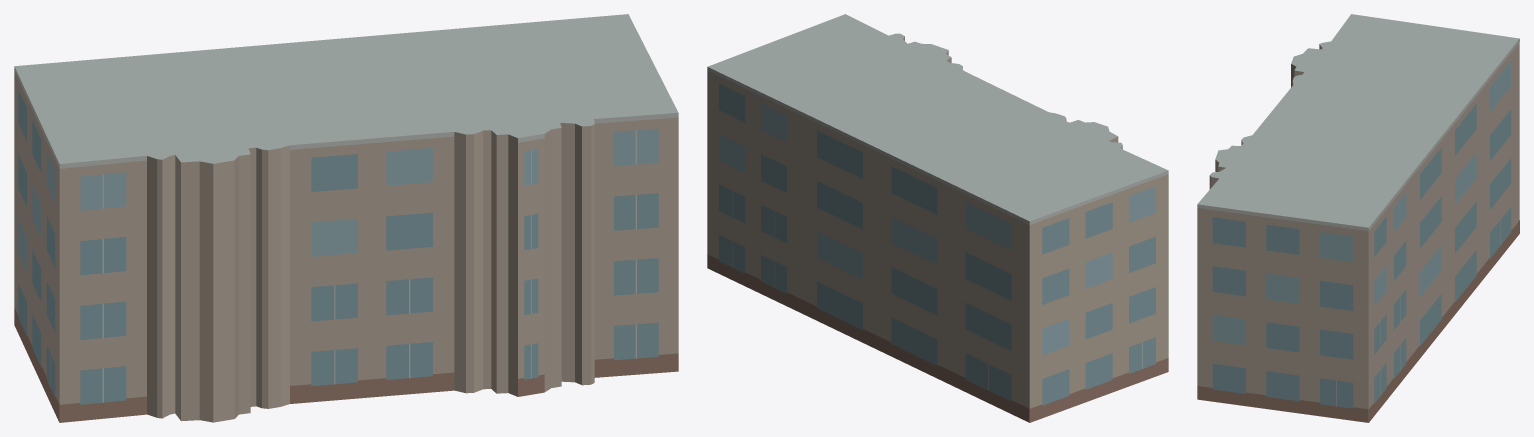
Rendered from survey-upis-32808444.glb.
3 renders of one model, left to right at view 1: azimuth 30°, elevation 25°; view 2: azimuth 150°, elevation 25°; view 3: azimuth 270°, elevation 25°, orthographic. The views are drawn at different scales.
Parts seen in each view (by area): view 1: survey-upis-32808444.tmp; view 2: survey-upis-32808444.tmp; view 3: survey-upis-32808444.tmp.
Part boxes in pixels (bbox=[...]): survey-upis-32808444.tmp: bbox=[14, 14, 678, 422]; survey-upis-32808444.tmp: bbox=[707, 14, 1168, 422]; survey-upis-32808444.tmp: bbox=[1197, 14, 1519, 422].
Size of the model in its own units: 31.59 by 13.45 by 20.15.
